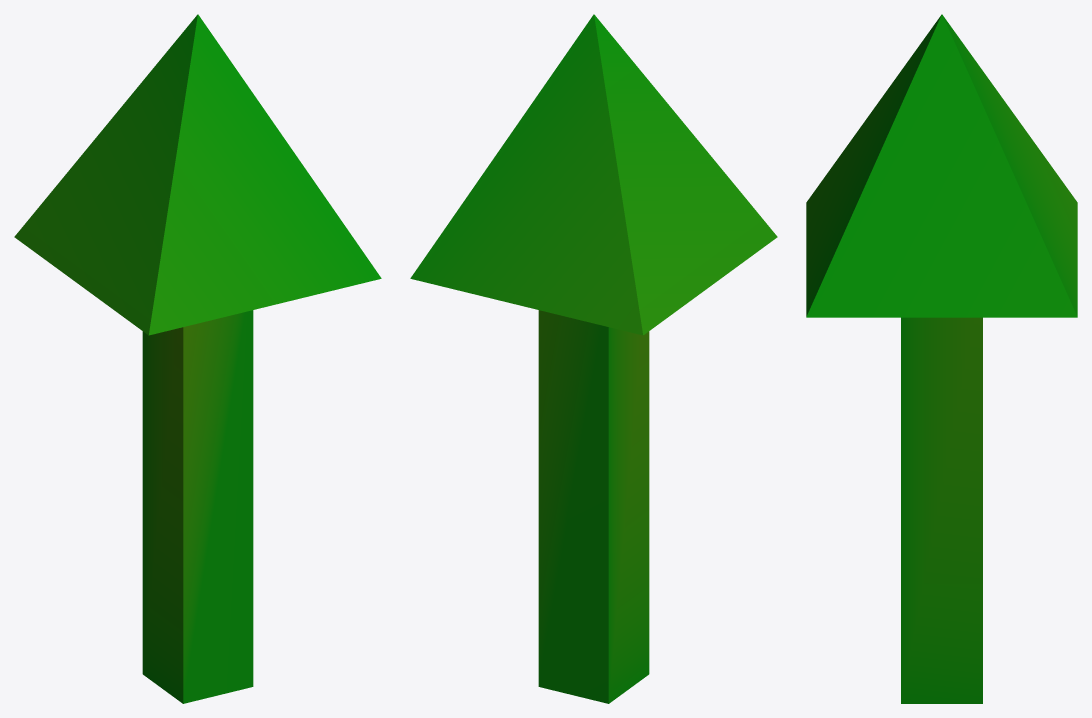
Rendered from arrow-y.fbx.
The picture shows the model from 3 angles, left to right: view 1: azimuth 30°, elevation 25°; view 2: azimuth 150°, elevation 25°; view 3: azimuth 270°, elevation 25°; orthographic projection.
Parts seen in each view (by area): view 1: Cube; view 2: Cube; view 3: Cube.
Boxes of the visible parts, bbox=[...] form: Cube: bbox=[14, 14, 381, 703]; Cube: bbox=[410, 14, 777, 703]; Cube: bbox=[806, 14, 1077, 703].
Size of the model in its own units: 200 by 547 by 200.
